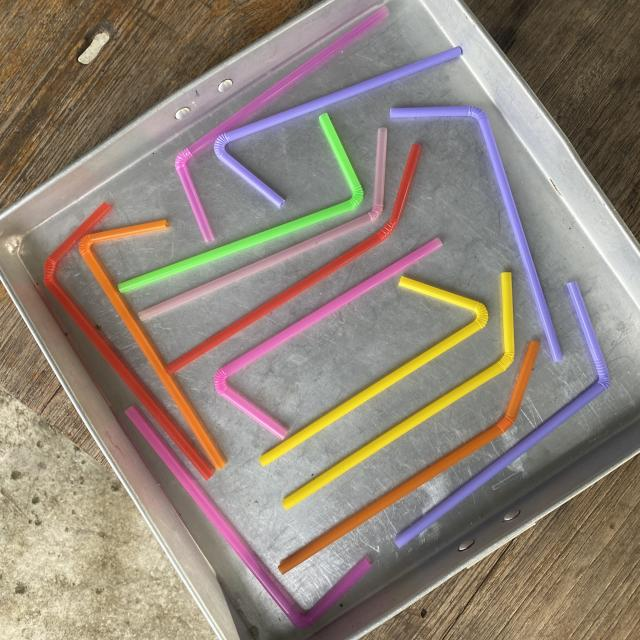Single-Use-Plastic: (279, 341, 540, 574), (395, 281, 610, 548), (169, 144, 421, 371), (282, 272, 515, 509), (126, 406, 371, 628), (175, 6, 389, 242), (139, 129, 386, 320), (44, 202, 212, 480), (214, 238, 441, 439), (390, 106, 562, 361), (119, 114, 364, 292), (260, 278, 489, 465), (214, 48, 461, 206), (79, 220, 225, 470), (215, 239, 441, 394)
